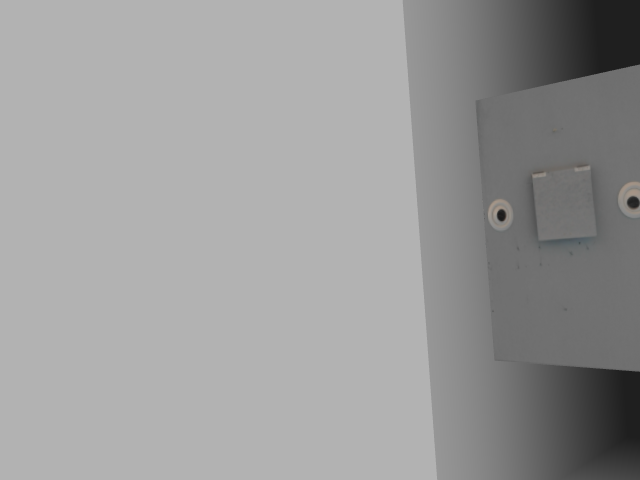facade: (484, 164, 639, 242)
